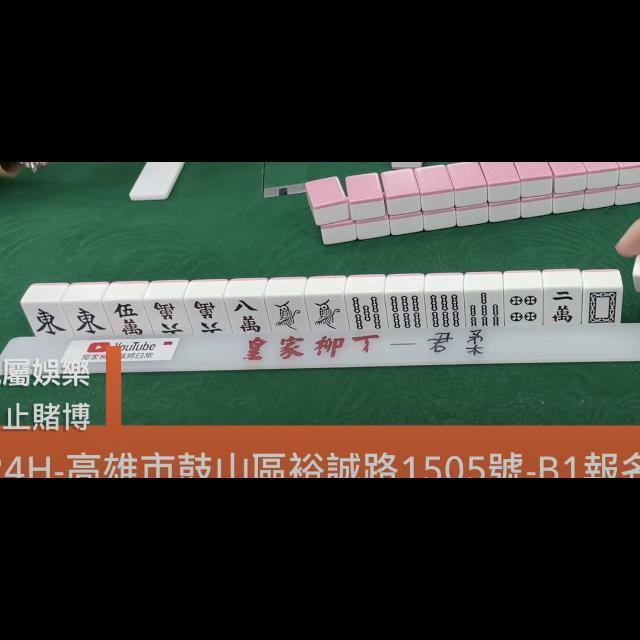b1: (268, 296, 308, 334), (310, 295, 346, 331)
b5: (348, 293, 386, 331)
b6: (427, 292, 463, 330), (388, 292, 424, 330)
b7: (466, 291, 504, 327)
c2: (544, 288, 580, 326)
c5: (109, 300, 148, 340)
c6: (187, 298, 227, 336), (150, 300, 186, 338)
c8: (230, 298, 266, 336)
d4: (505, 291, 541, 327)
dw: (583, 289, 619, 325)
we: (68, 302, 108, 338), (27, 303, 67, 339)
